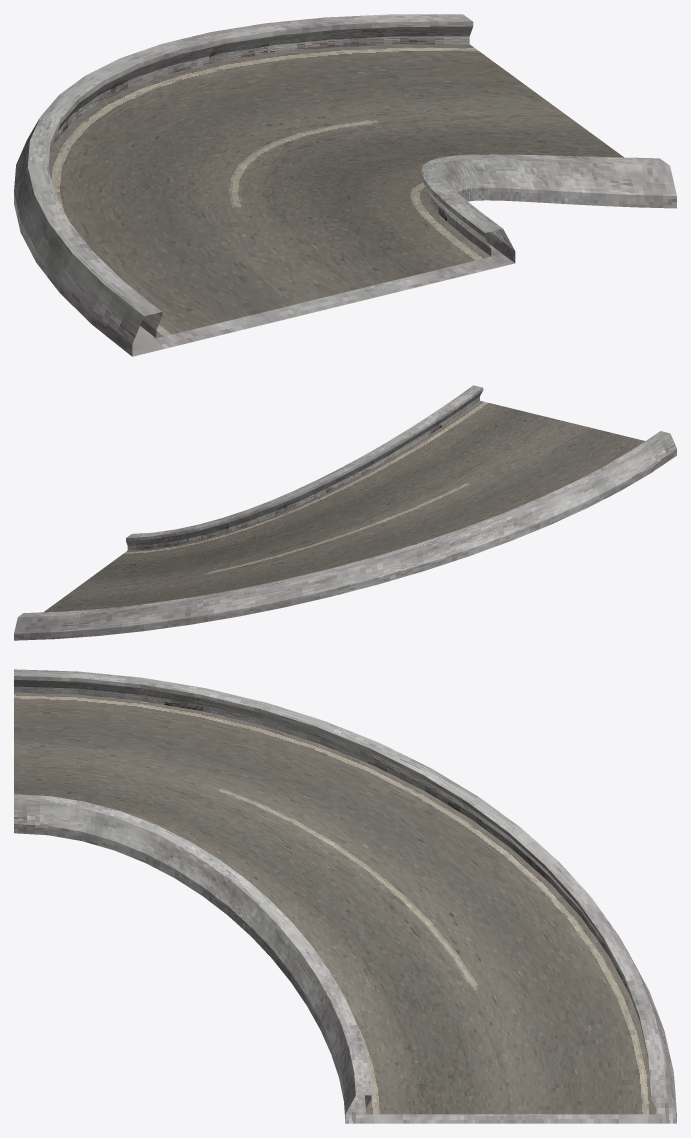
The model's file is road-Turn-Flat-BiSlopeDown-Down2-Right-Size2.glb.
3 views of the same model, one above another, from view 1: azimuth 30°, elevation 25°; view 2: azimuth 150°, elevation 25°; view 3: azimuth 270°, elevation 25° (orthographic). The views are drawn at different scales.
Visible parts, largest first — view 1: road-Turn-Flat-BiSlopeDown-Down2-Right-Size2; view 2: road-Turn-Flat-BiSlopeDown-Down2-Right-Size2; view 3: road-Turn-Flat-BiSlopeDown-Down2-Right-Size2.
Boxes of the visible parts, left/top/right/bottom form: road-Turn-Flat-BiSlopeDown-Down2-Right-Size2: left=14, top=14, right=676, bottom=356; road-Turn-Flat-BiSlopeDown-Down2-Right-Size2: left=14, top=385, right=676, bottom=640; road-Turn-Flat-BiSlopeDown-Down2-Right-Size2: left=14, top=669, right=676, bottom=1123.
Bounding box in the file's own units: 2 × 0.5938 × 2.
Materials: 2 (2 with a texture image).
